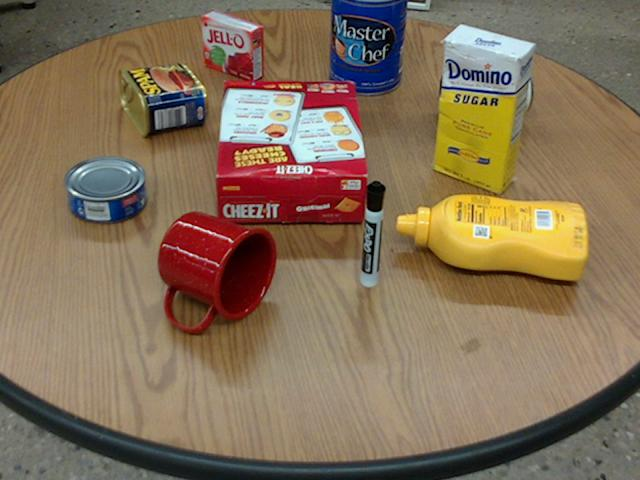cracker_box: (214, 81, 367, 222)
gelatin_box: (201, 10, 263, 80)
large_marker: (360, 180, 383, 286)
master_chef_can: (329, 0, 407, 93)
mug: (155, 212, 274, 330)
mustard_bottle: (396, 194, 586, 279)
potted_meat_can: (118, 63, 205, 135)
sugar_box: (435, 24, 533, 193)
tomato_soup_can: (439, 62, 531, 121)
tuna_fish_can: (63, 156, 144, 222)
